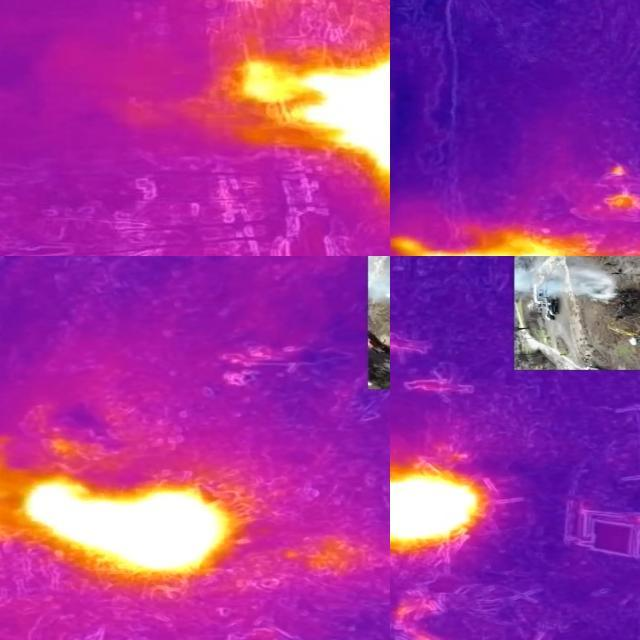fire: (24, 475, 234, 577), (283, 48, 391, 190), (391, 461, 488, 557), (389, 220, 594, 257)
